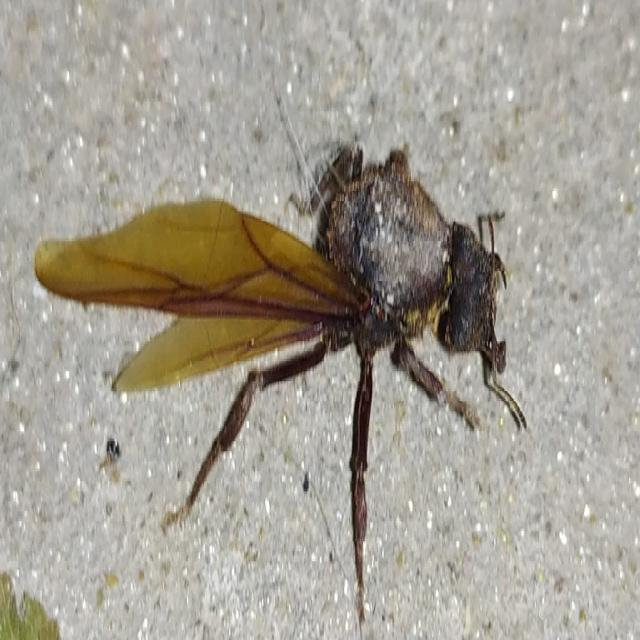Dead-Female-Alate: (36, 142, 528, 621)
